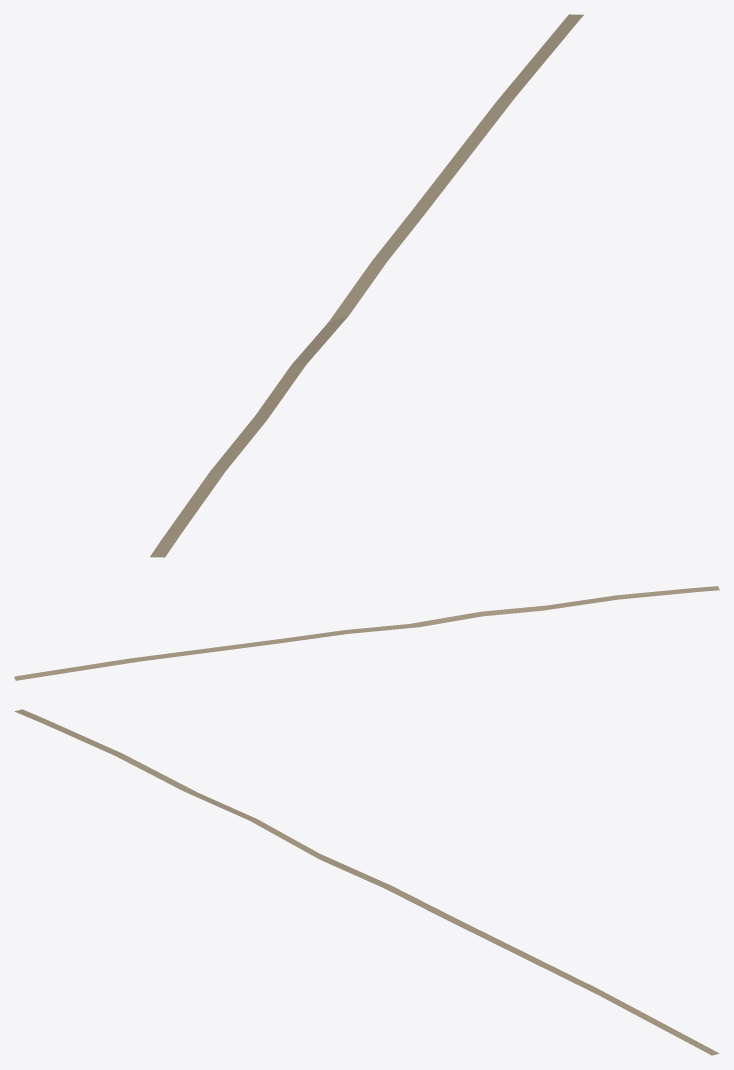
File: farm_-8_4_track.glb
3 renders of one model, top to bottom at view 1: azimuth 30°, elevation 25°; view 2: azimuth 150°, elevation 25°; view 3: azimuth 270°, elevation 25°, orthographic. The views are drawn at different scales.
Parts seen in each view (by area): view 1: geometry_0; view 2: geometry_0; view 3: geometry_0.
Boxes of the visible parts, bbox=[...] form: geometry_0: bbox=[150, 14, 583, 557]; geometry_0: bbox=[14, 586, 719, 680]; geometry_0: bbox=[14, 709, 719, 1055].
Bounding box in the file's own units: 216 × 10.18 × 203.
